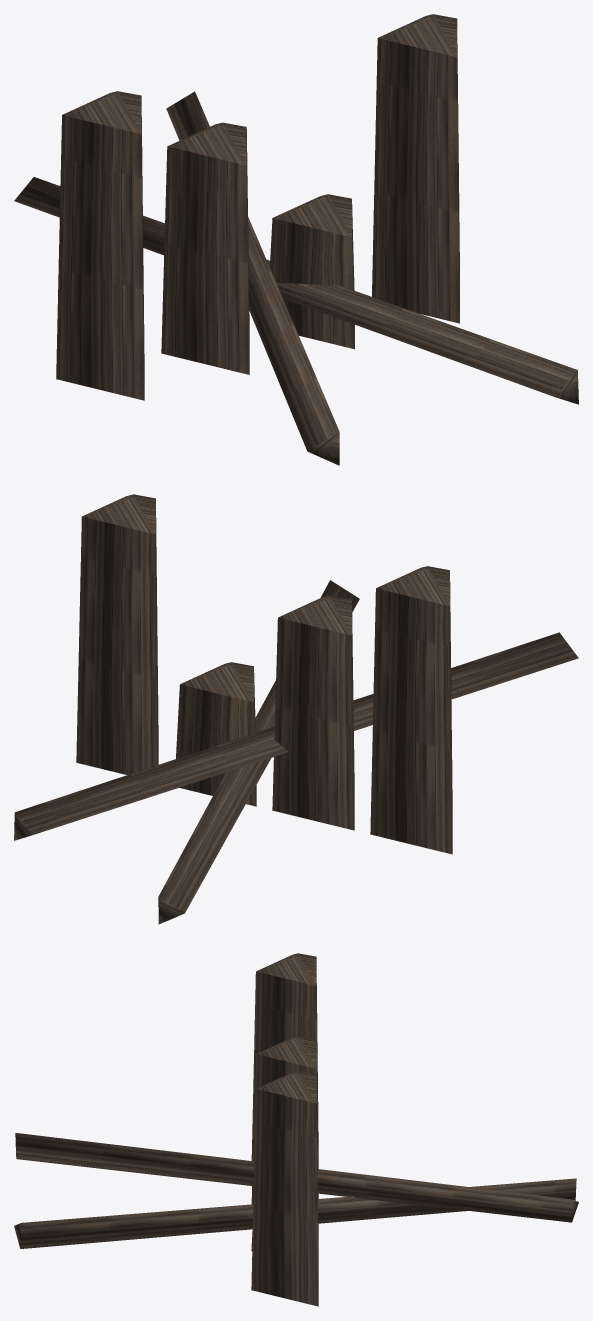
The model's file is Rampart_Wood_Breach_1_LOD2.gltf.
3 views of the same model, one above another, from view 1: azimuth 30°, elevation 25°; view 2: azimuth 150°, elevation 25°; view 3: azimuth 270°, elevation 25° (orthographic). The views are drawn at different scales.
Visible parts, largest first — view 1: Rampart_Wood_Breach_1_LOD2; view 2: Rampart_Wood_Breach_1_LOD2; view 3: Rampart_Wood_Breach_1_LOD2.
Part boxes in pixels (left/top/right/bottom): Rampart_Wood_Breach_1_LOD2: left=14, top=14, right=578, bottom=465; Rampart_Wood_Breach_1_LOD2: left=14, top=494, right=578, bottom=924; Rampart_Wood_Breach_1_LOD2: left=14, top=953, right=578, bottom=1306.
Size of the model in its own units: 3.84 by 2.6 by 6.1.
Materials: 1 (1 with a texture image).
